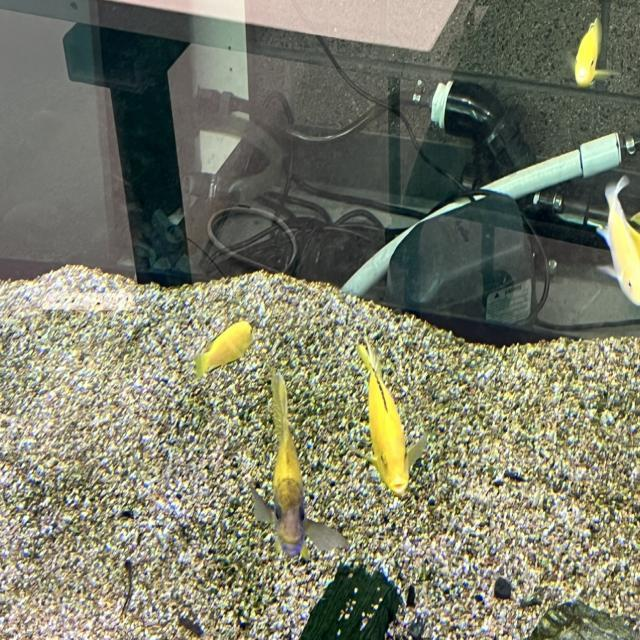YellowCichlid: (339, 322, 431, 512), (256, 388, 322, 566), (545, 5, 630, 99), (592, 168, 640, 328), (182, 301, 267, 375)
